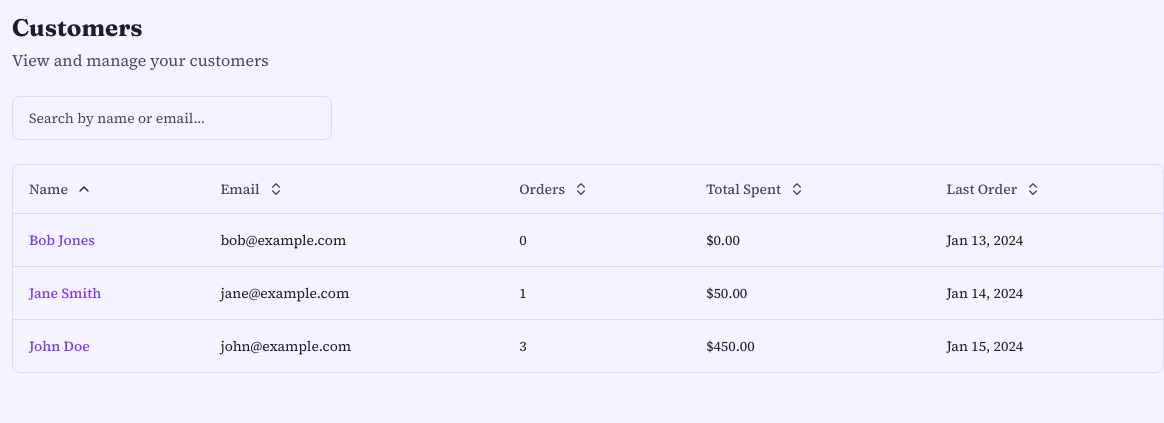
Test: CustomersPage › shows empty state when no customers match search
The image size is (1164, 423).
Step 1. Type "nonexistent" into the field with placeholder "Search by name or email..." → [172, 118], box [12,96,332,140]
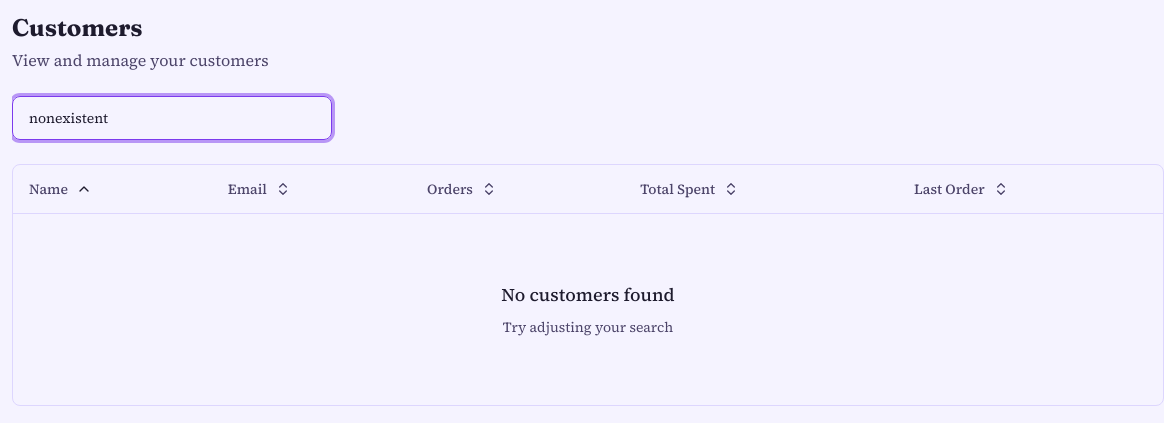
expect the text "No customers found" is shown: met, box [501,281,675,309]
